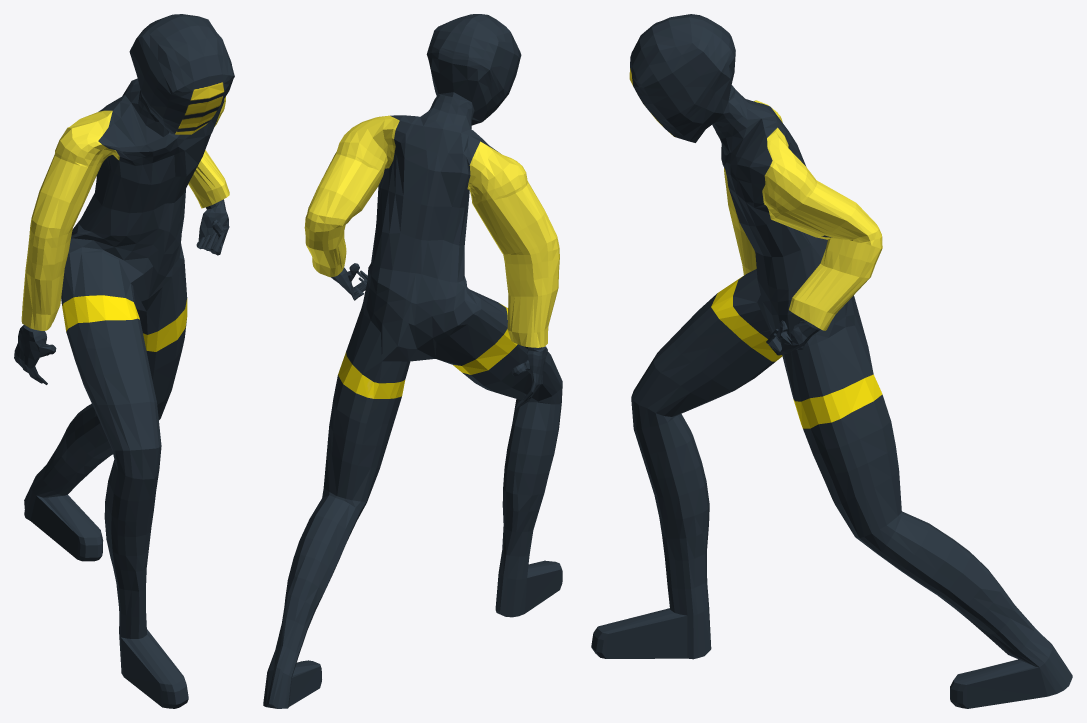
The model's file is Sentry_Stun_000010.obj.
3 renders of one model, left to right at view 1: azimuth 30°, elevation 25°; view 2: azimuth 150°, elevation 25°; view 3: azimuth 270°, elevation 25°, orthographic. The views are drawn at different scales.
Visible parts, largest first — view 1: Cube; view 2: Cube; view 3: Cube.
Boxes of the visible parts, bbox=[...] form: Cube: bbox=[14, 14, 234, 708]; Cube: bbox=[263, 14, 562, 708]; Cube: bbox=[591, 14, 1072, 708].
Bounding box in the file's own units: 1.27 × 3.39 × 2.23.
